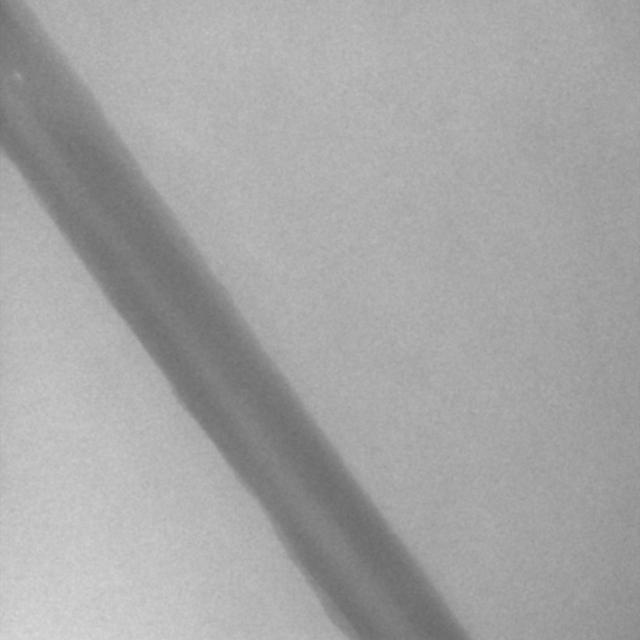air hole: (14, 71, 24, 83)
